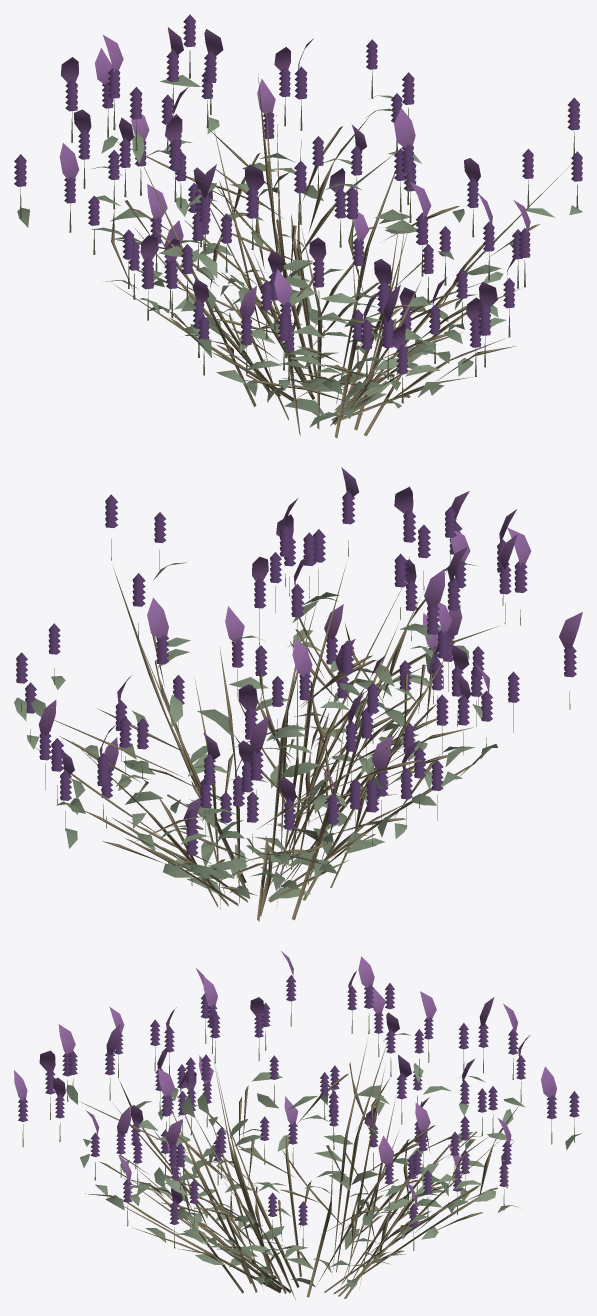
File: Lavande_Etale_LOD2.fbx
The picture shows the model from 3 angles, top to bottom: view 1: azimuth 30°, elevation 25°; view 2: azimuth 150°, elevation 25°; view 3: azimuth 270°, elevation 25°; orthographic projection. The views are drawn at different scales.
Parts seen in each view (by area): view 1: Lavande_Etale_LOD2; view 2: Lavande_Etale_LOD2; view 3: Lavande_Etale_LOD2.
Boxes of the visible parts, left/top/right/bottom form: Lavande_Etale_LOD2: left=14, top=14, right=582, bottom=438; Lavande_Etale_LOD2: left=14, top=467, right=582, bottom=921; Lavande_Etale_LOD2: left=14, top=951, right=581, bottom=1299.
Bounding box in the file's own units: 74.46 × 57.63 × 97.78.
